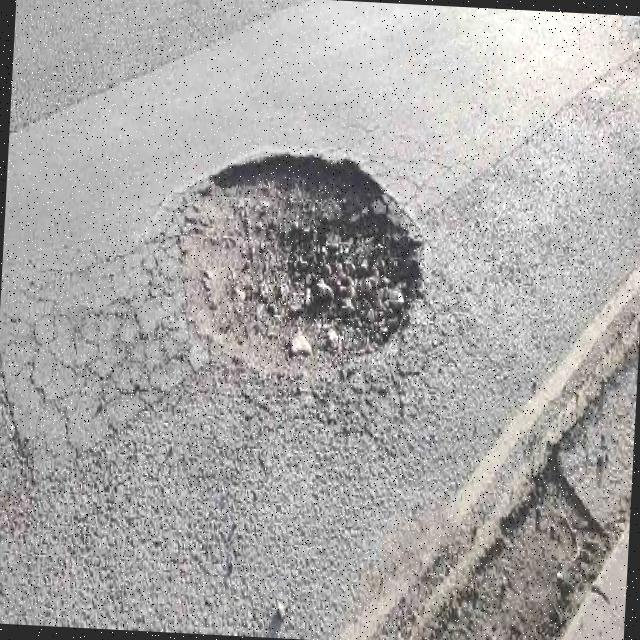Pothole: (178, 153, 424, 371)
